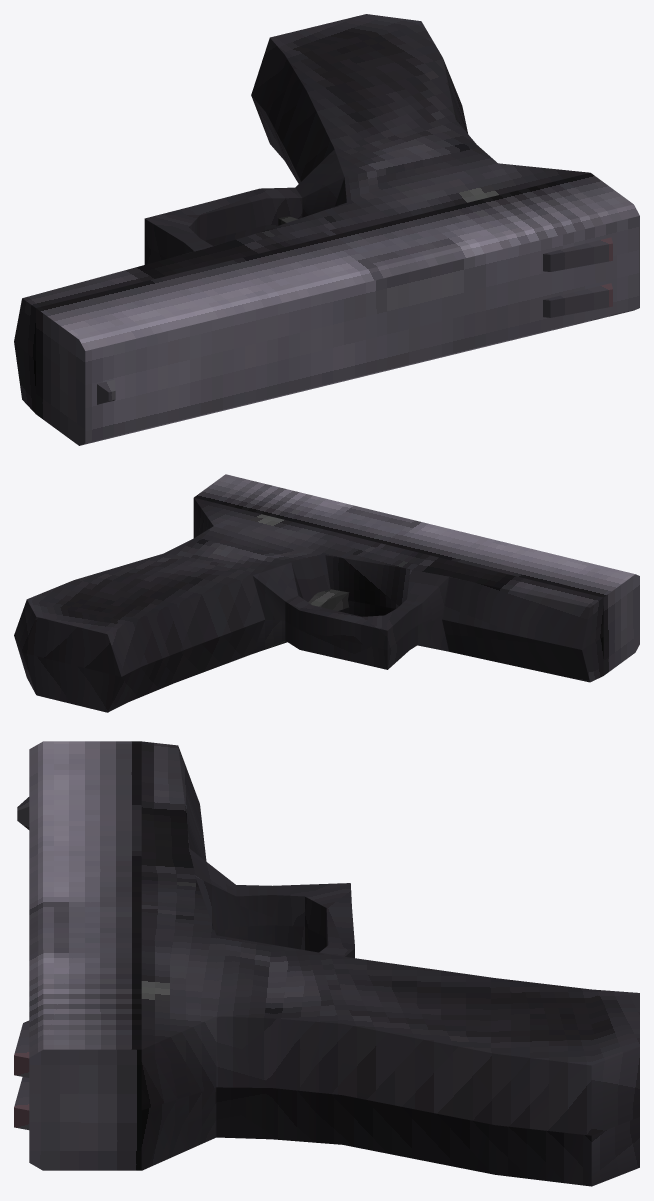
Rendered from pistol.glb.
3 views of the same model, one above another, from view 1: azimuth 30°, elevation 25°; view 2: azimuth 150°, elevation 25°; view 3: azimuth 270°, elevation 25° (orthographic). The views are drawn at different scales.
Parts seen in each view (by area): view 1: Pistol; view 2: Pistol; view 3: Pistol.
Part boxes in pixels (x1=…): Pistol: x1=14, y1=14, x2=639, y2=445; Pistol: x1=14, y1=474, x2=639, y2=712; Pistol: x1=14, y1=741, x2=639, y2=1186.
Size of the model in its own units: 1.08 by 0.1825 by 0.8556.
1 material, 1 textured.
